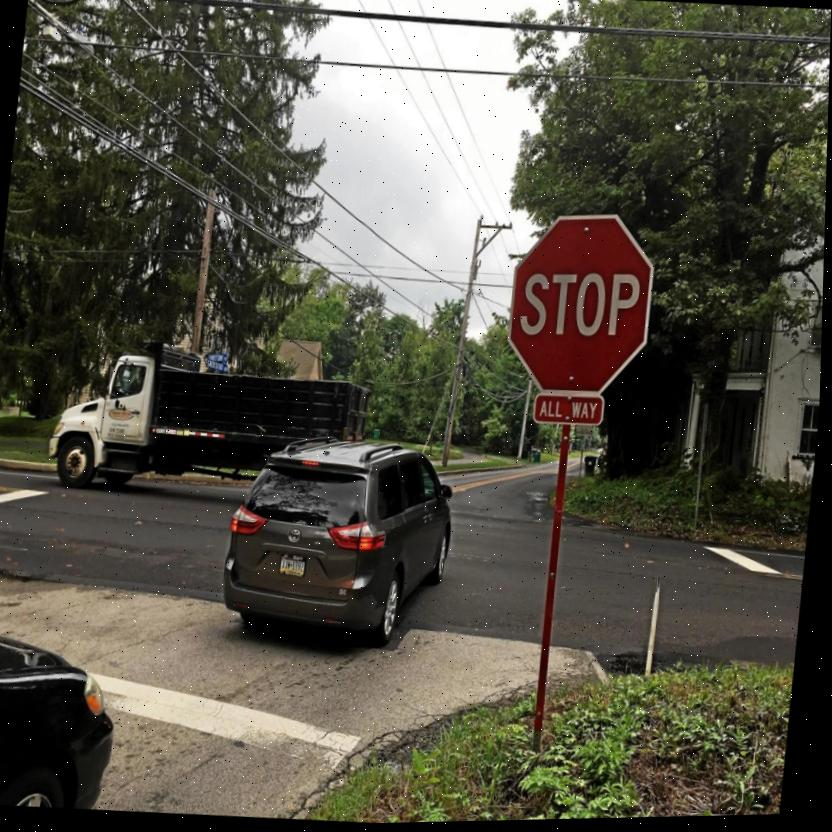Pole: (534, 425, 575, 755)
Sign: (501, 209, 662, 408)
